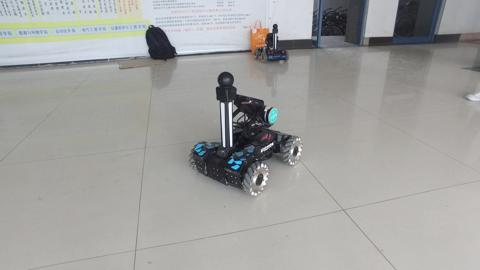bag: (143, 22, 178, 63), (248, 17, 270, 50)
chariot: (185, 71, 302, 198), (251, 22, 290, 62)
